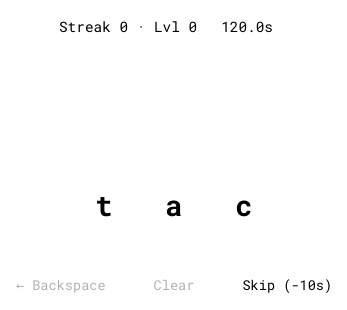
Scenario: InfiniteSurvival - Game Simulation › solving a word increases survival streak
Click the button "c".
click(244, 205)  # box x1=213 y1=174 x2=275 y2=236
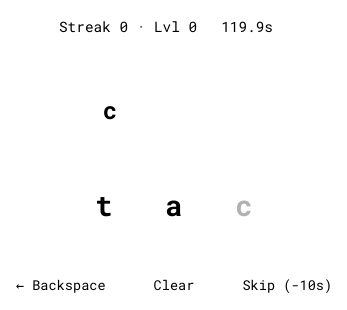
Click the button "a".
click(174, 205)  # box x1=143 y1=174 x2=205 y2=236
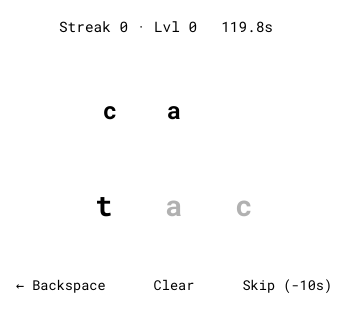
Click the button "t".
click(104, 205)  # box x1=73 y1=174 x2=135 y2=236
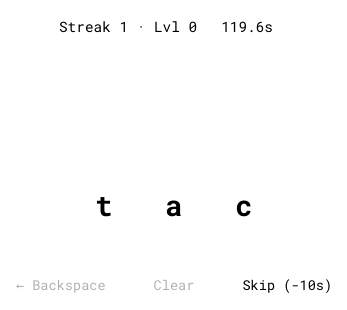
Result: the text "Streak 1 · Lvl 0" is shown at x1=59 y1=16 x2=197 y2=38
